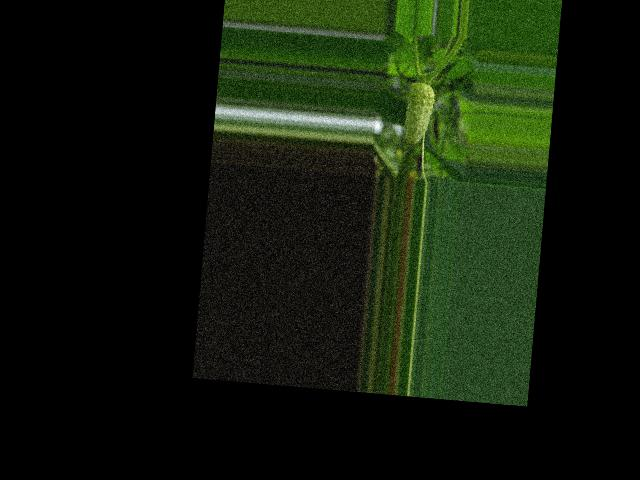cucumber: (403, 81, 436, 148)
